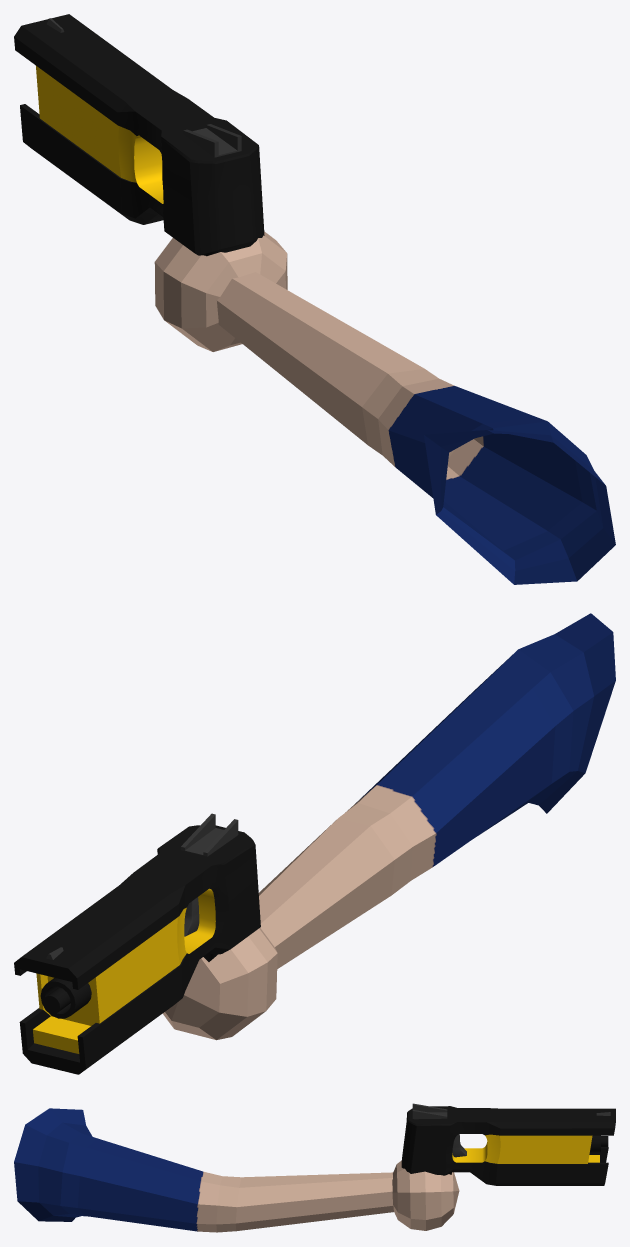
Rendered from TaserArm.fbx.
3 views of the same model, one above another, from view 1: azimuth 30°, elevation 25°; view 2: azimuth 150°, elevation 25°; view 3: azimuth 270°, elevation 25° (orthographic). The views are drawn at different scales.
Visible parts, largest first — view 1: Taser; view 2: Taser; view 3: Taser.
Boxes of the visible parts, x1,y1,x2,y2 form: Taser: (14, 14, 615, 584); Taser: (14, 613, 615, 1074); Taser: (14, 1103, 615, 1232).
Bounding box in the file's own units: 5.38 × 31.01 × 6.84.
